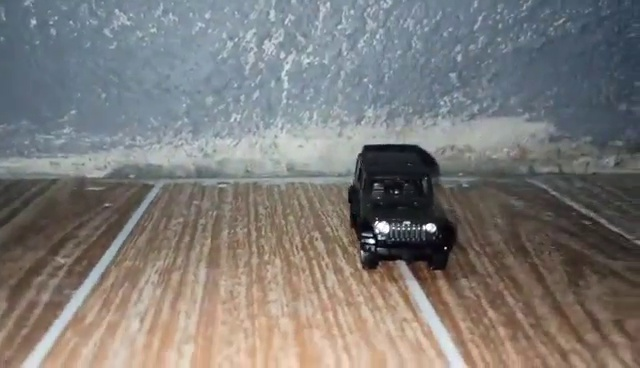car: (350, 146, 456, 271)
